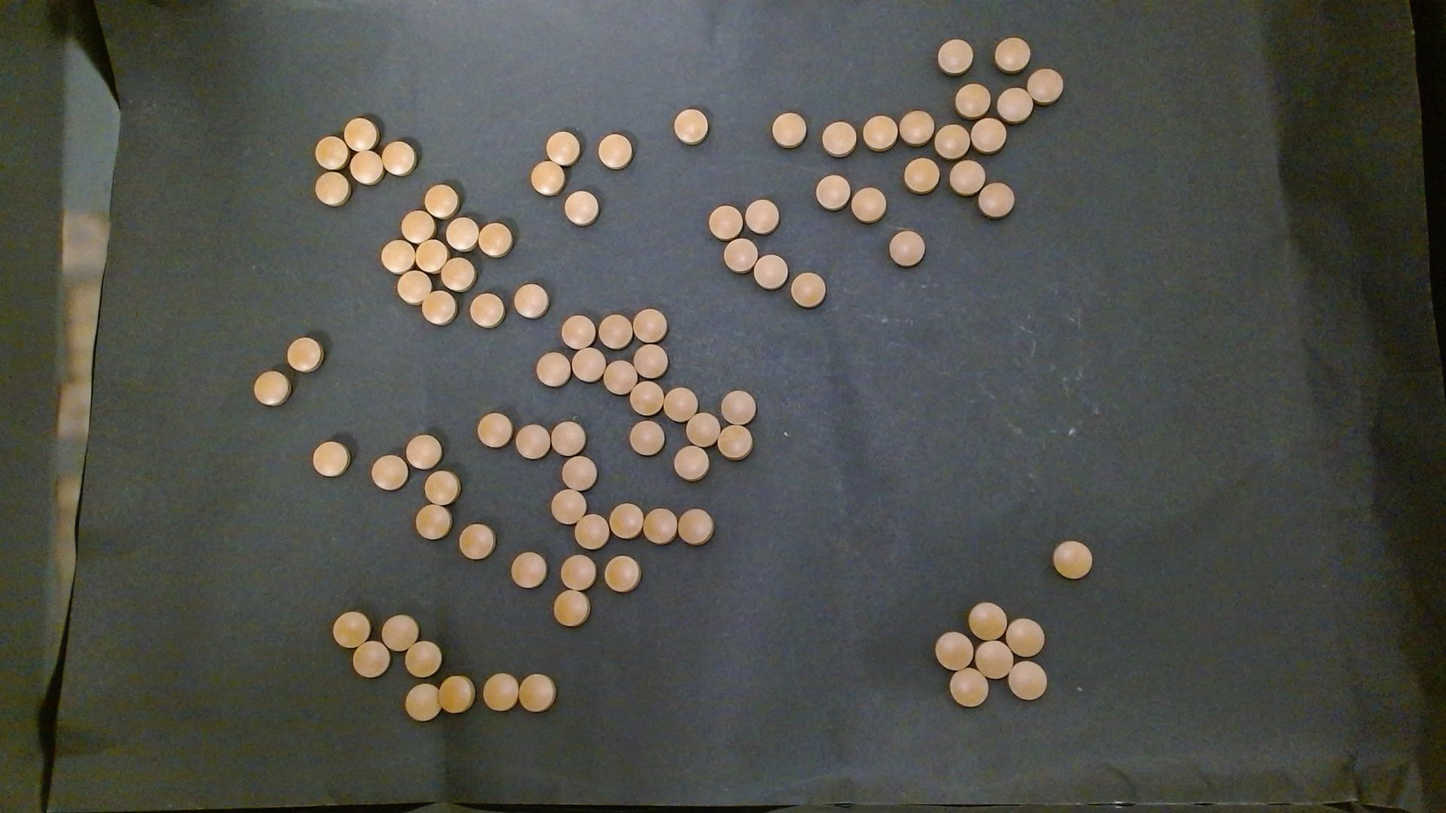Circle: (1008, 659, 1048, 699), (1005, 617, 1045, 657), (934, 630, 973, 671), (973, 639, 1013, 678), (331, 610, 371, 649), (1052, 540, 1092, 579), (968, 601, 1007, 640), (949, 667, 988, 706), (518, 673, 556, 712), (380, 614, 419, 652), (352, 640, 390, 678), (511, 550, 548, 589), (311, 440, 350, 477), (482, 672, 519, 711), (459, 522, 496, 560), (677, 508, 714, 546), (553, 589, 590, 627), (404, 682, 441, 720), (414, 504, 453, 540), (370, 454, 407, 491), (996, 86, 1033, 123), (405, 433, 442, 470), (953, 83, 990, 120), (993, 36, 1030, 73), (814, 173, 850, 211), (253, 370, 291, 406), (438, 675, 474, 713), (889, 230, 925, 267), (604, 555, 640, 592), (978, 181, 1014, 218), (673, 445, 709, 482), (903, 157, 939, 194), (771, 111, 807, 148), (950, 159, 986, 196), (597, 132, 633, 169), (629, 419, 665, 456), (404, 641, 441, 677), (573, 513, 609, 550), (476, 411, 512, 448), (820, 120, 856, 157), (550, 420, 586, 457), (862, 114, 898, 151), (529, 160, 566, 196), (314, 170, 351, 206), (933, 123, 969, 160), (898, 109, 934, 146), (970, 117, 1006, 154), (1027, 67, 1063, 104), (937, 38, 973, 75), (560, 553, 596, 589), (551, 489, 587, 525), (561, 455, 597, 491), (673, 108, 709, 144), (477, 221, 513, 257), (380, 140, 416, 176), (396, 268, 432, 304), (560, 313, 596, 349), (343, 116, 379, 152), (851, 185, 886, 222), (513, 282, 548, 319), (423, 470, 460, 505), (708, 203, 743, 240), (535, 351, 570, 388), (642, 507, 677, 544), (609, 502, 644, 539), (286, 336, 323, 371), (629, 379, 664, 416), (598, 313, 633, 350), (564, 190, 599, 226), (685, 411, 720, 447), (752, 254, 787, 290), (571, 346, 606, 382), (514, 424, 550, 459), (721, 389, 756, 425), (744, 198, 779, 234), (546, 129, 581, 165), (423, 183, 459, 218), (633, 343, 668, 379), (632, 307, 667, 343), (724, 236, 758, 273), (444, 217, 479, 252), (469, 292, 504, 327), (718, 425, 753, 460), (440, 256, 475, 291), (314, 135, 349, 170), (380, 239, 415, 274), (349, 149, 383, 185), (603, 359, 637, 395), (791, 272, 825, 307), (422, 290, 456, 325), (401, 209, 435, 244), (415, 238, 449, 273), (664, 386, 697, 421)
